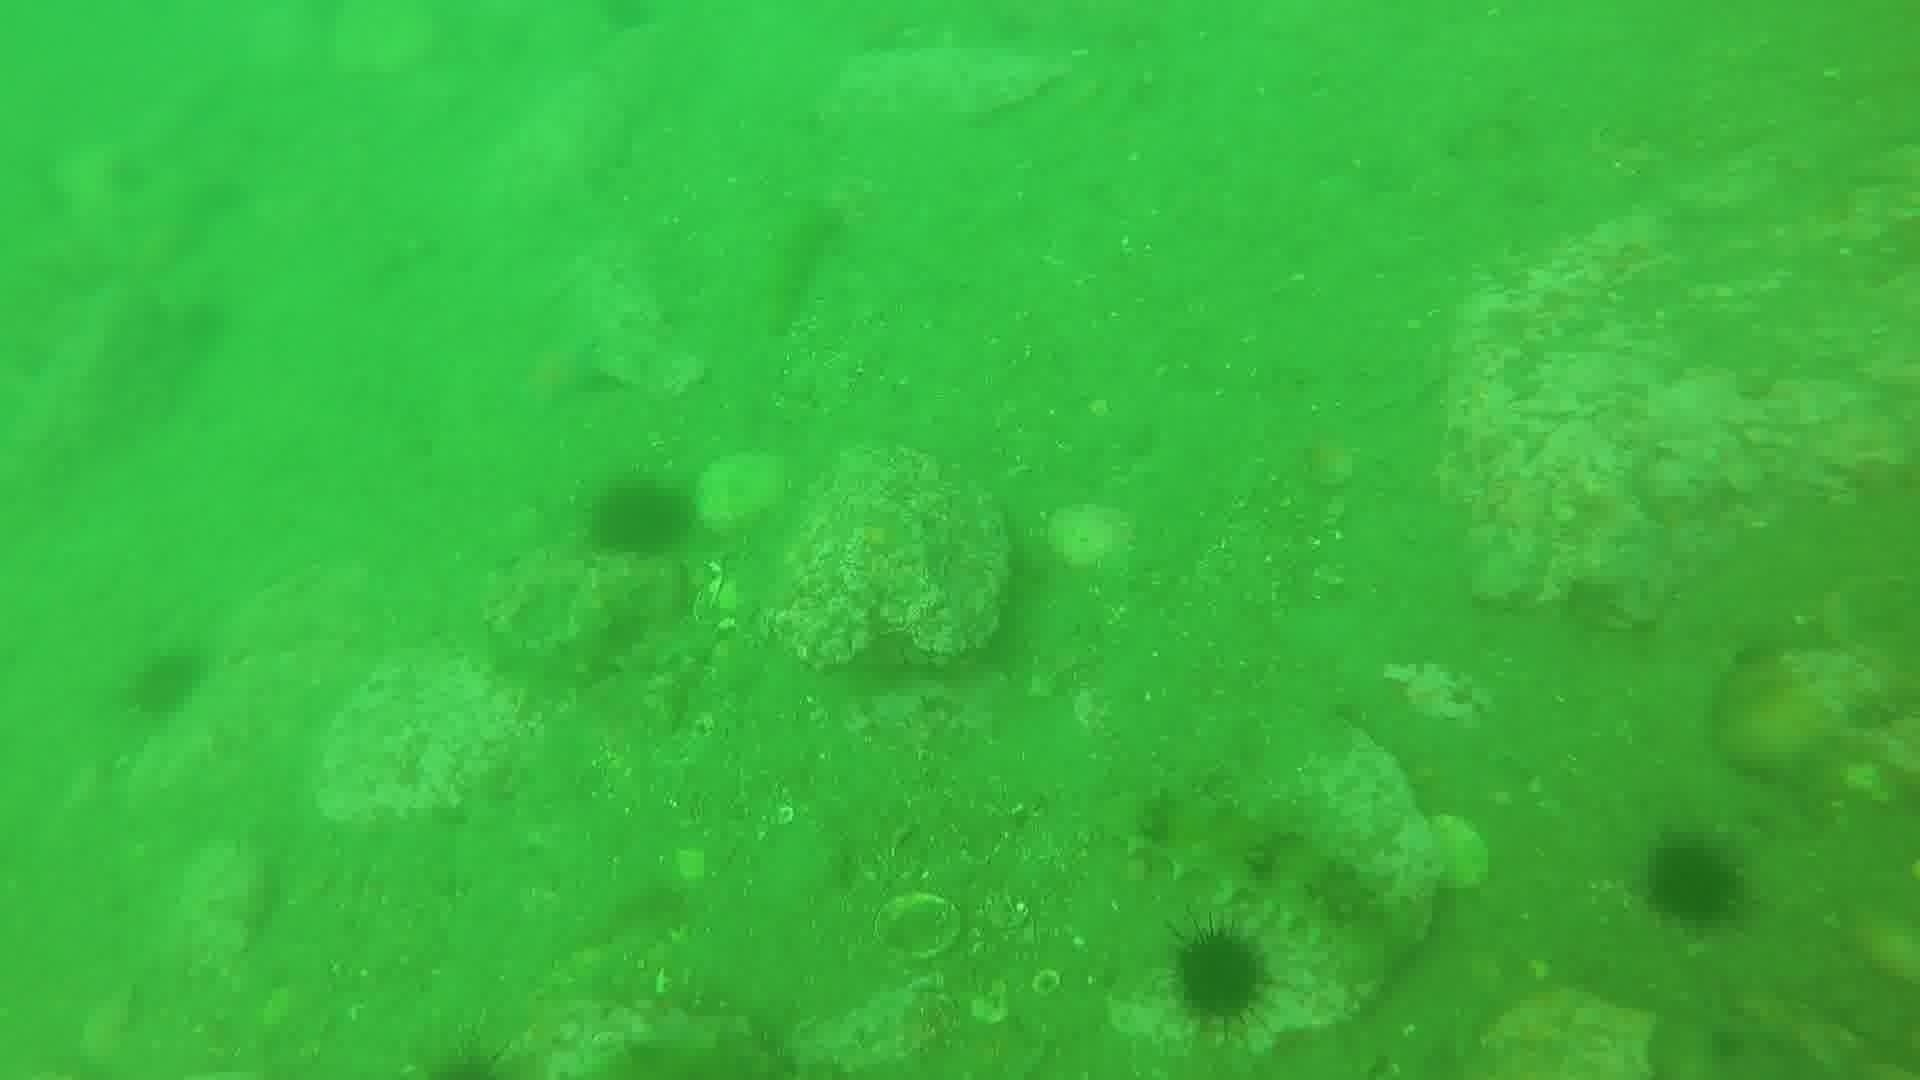echinus: (1162, 918, 1276, 1035), (1636, 829, 1749, 934), (584, 475, 698, 564), (121, 644, 210, 723)
holothurian: (1112, 785, 1389, 938), (491, 575, 655, 708)
starfish: (509, 326, 617, 419)
